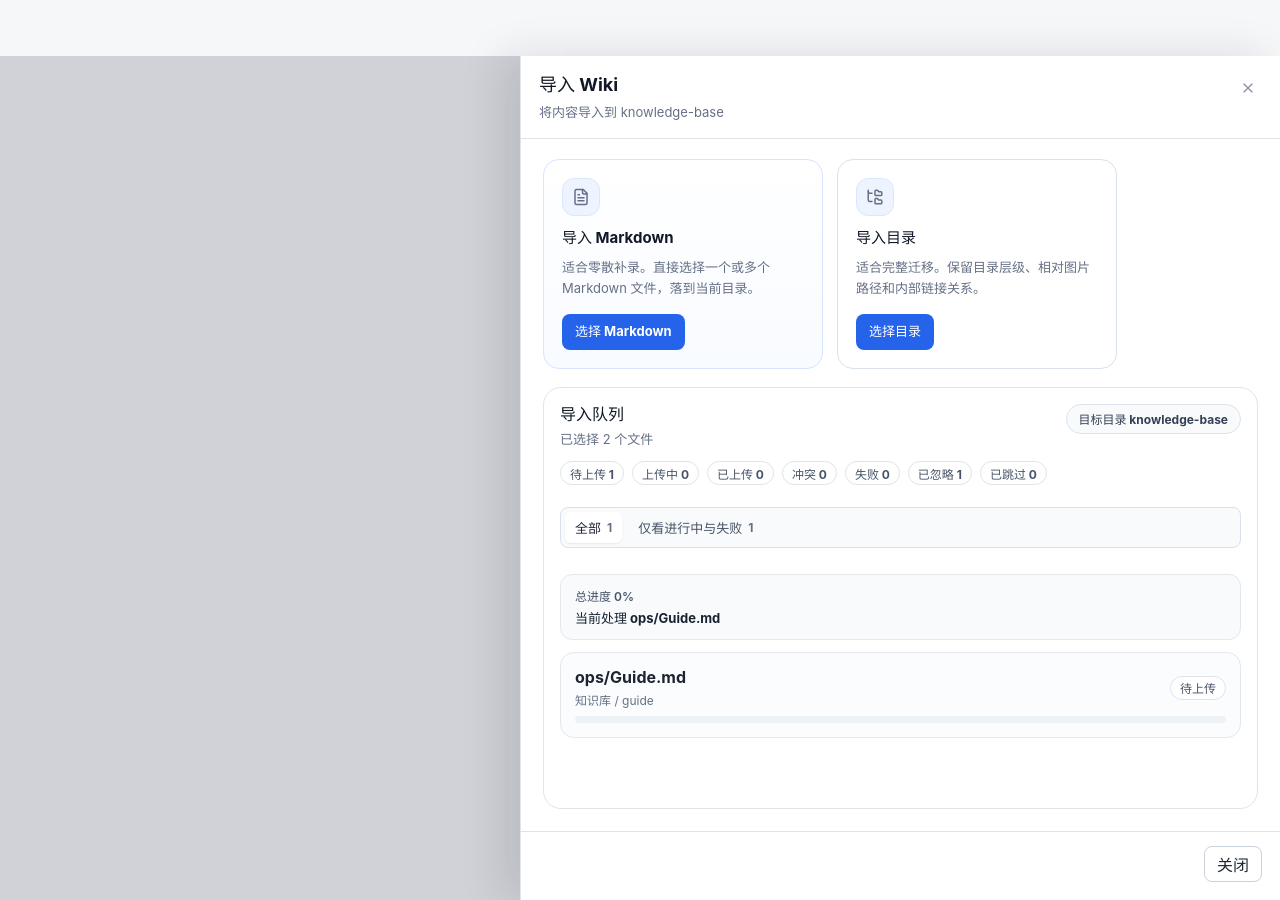
Test case: WikiImportDialog › renders queue summary and keeps ignored files collapsed by default
Expected: the text "目标目录 knowledge-base" is shown, [1066,404,1241,434]
Expected: the button "待上传 1" is shown, [560,462,624,486]
Click the button "已忽略 1": [940, 474] box [908,462,972,486]
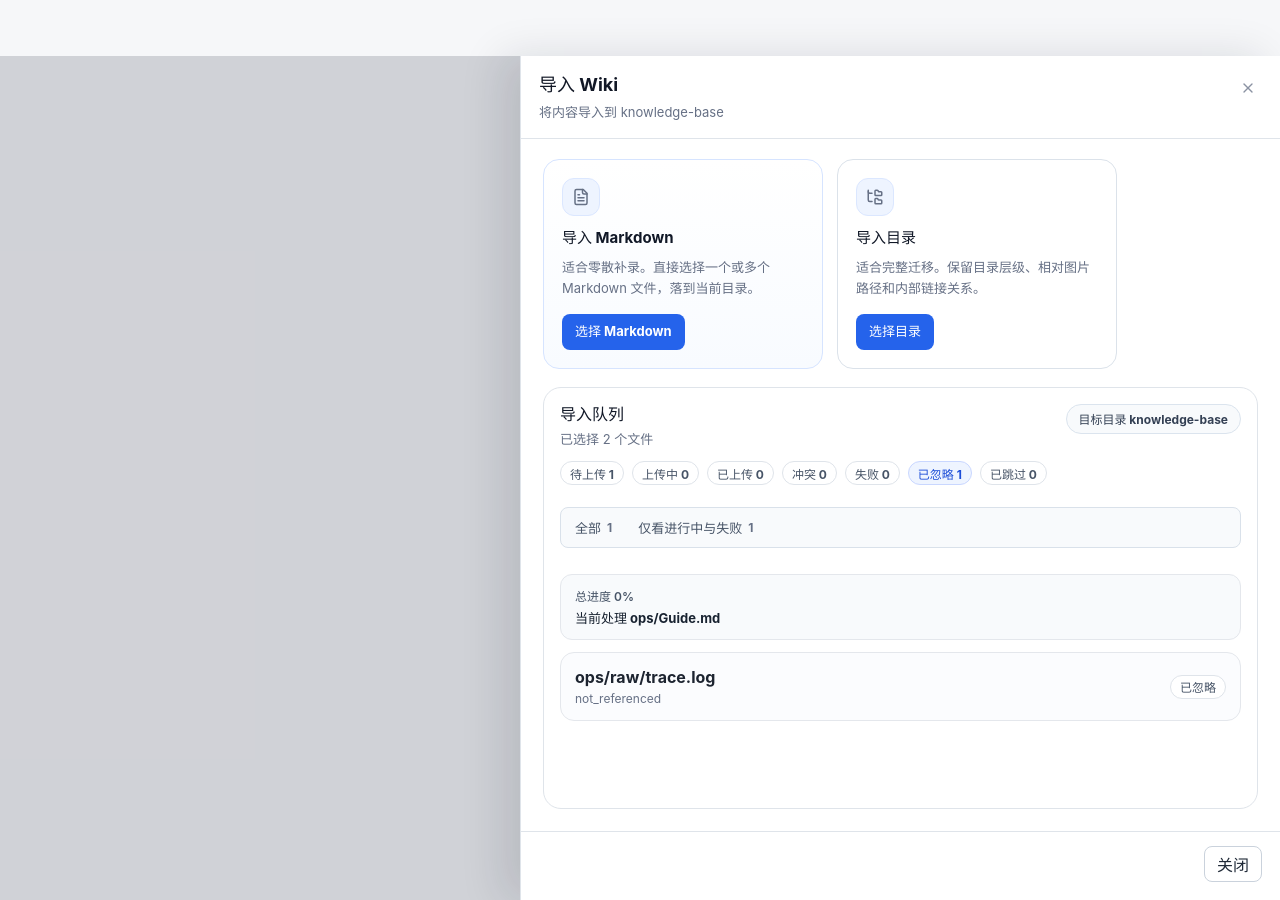
Now the text "ops/raw/trace.log" is shown, box [575,668,716,688]
